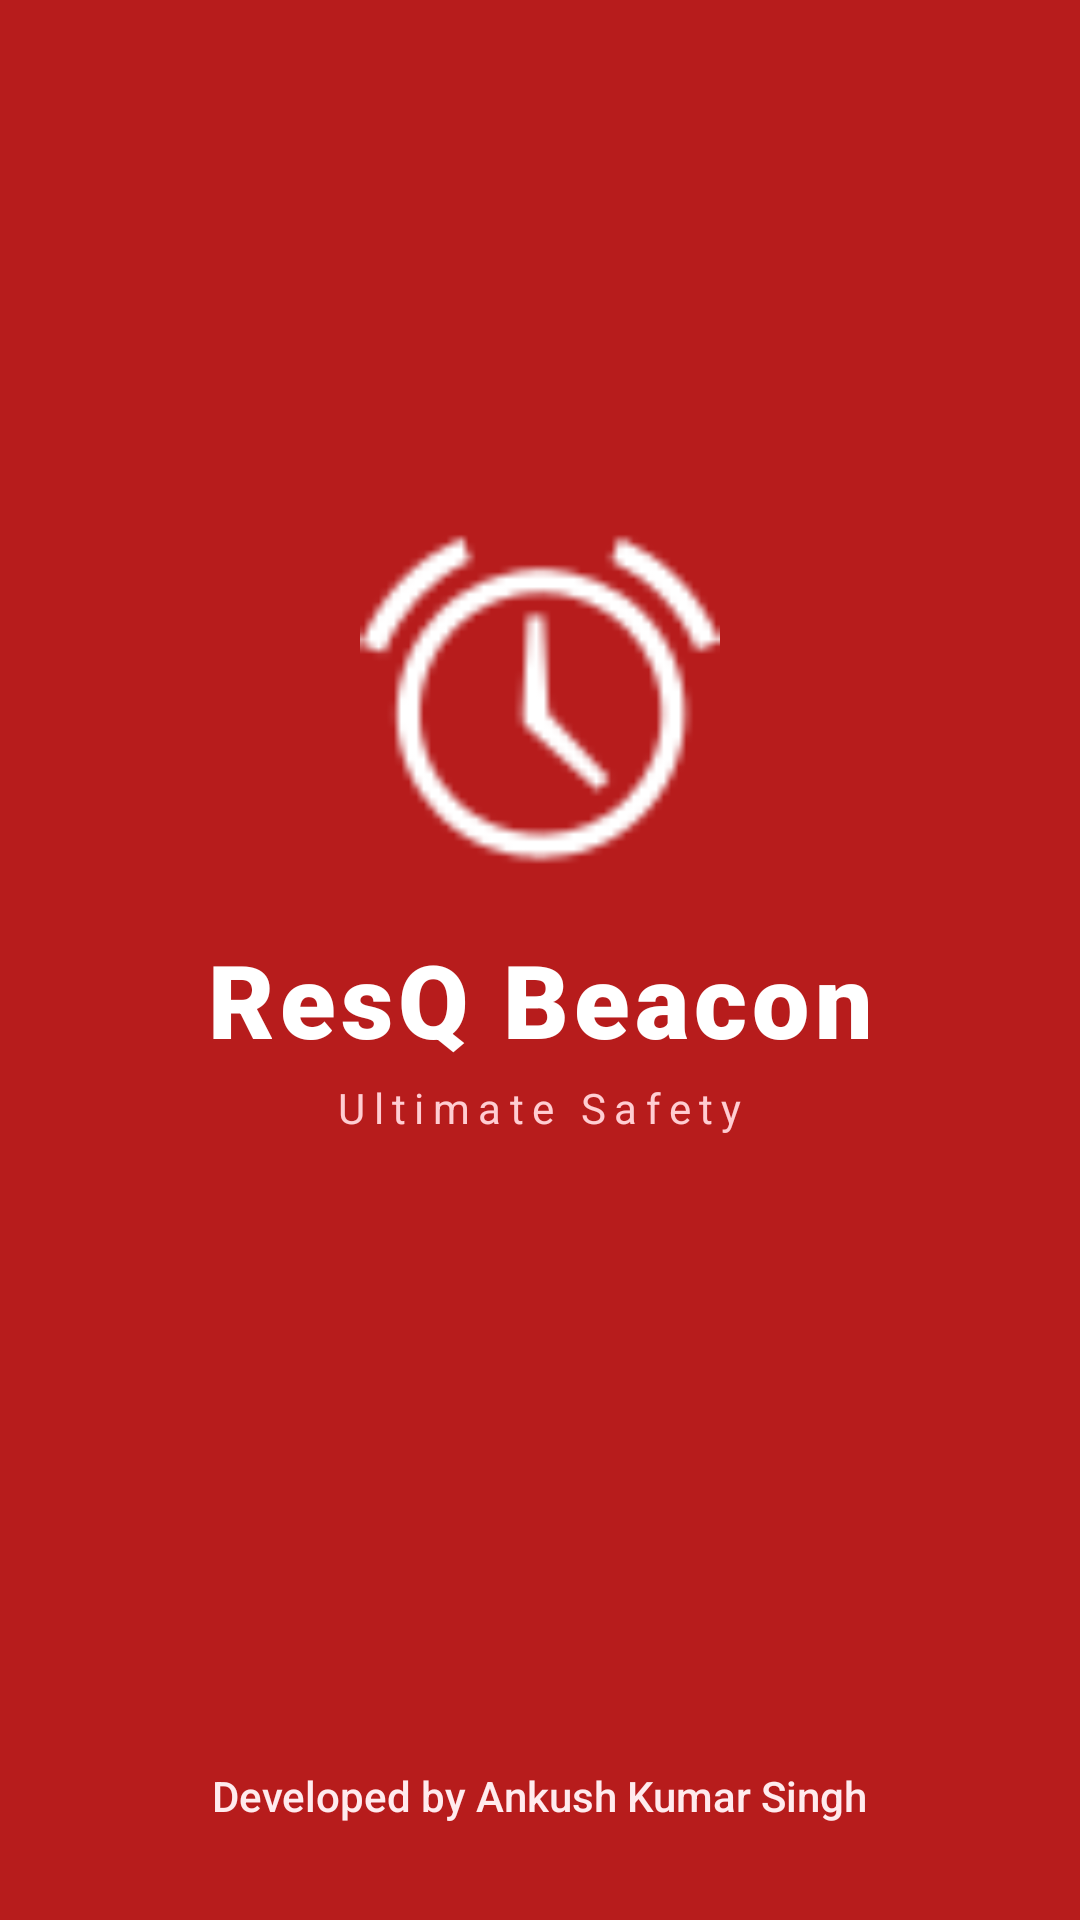

Screen size 1080*1920. Icon name, then its center in pixels as point (x, y):
lock idle alarm: point (540, 699)
